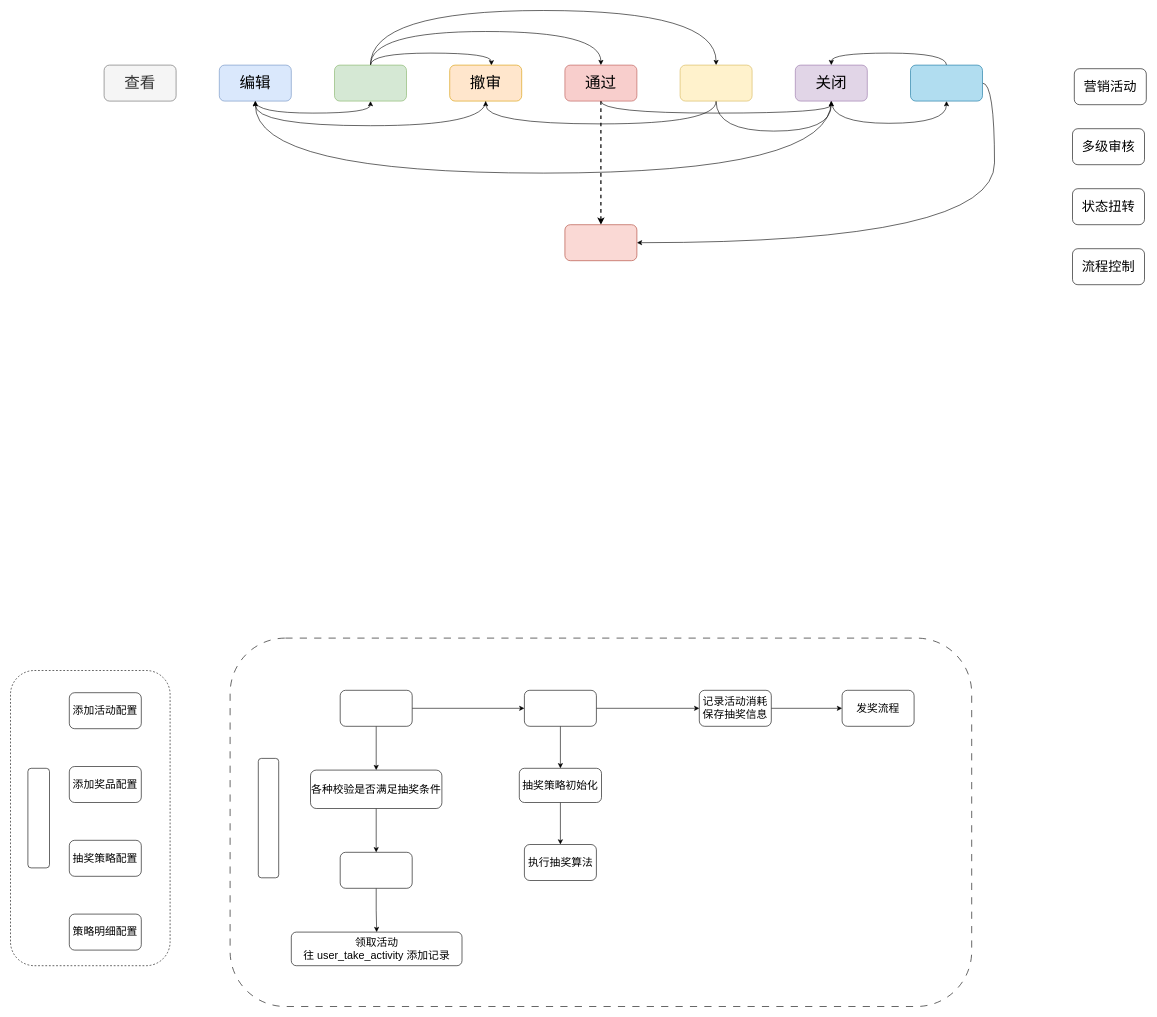
The diagram is 1157 pixels wide and 1017 high, and some of its shapes have lost their labels. Each missing label, with the box of its shape:
参与活动: (340, 690, 412, 726)
开启: (910, 64, 982, 101)
扣减活动库存: (340, 852, 412, 888)
执行抽奖: (524, 690, 596, 726)
抽奖流程: (258, 758, 279, 878)
拒绝: (680, 64, 752, 101)
提审: (334, 64, 406, 101)
活动中: (564, 224, 637, 261)
活动配置: (27, 768, 50, 868)
